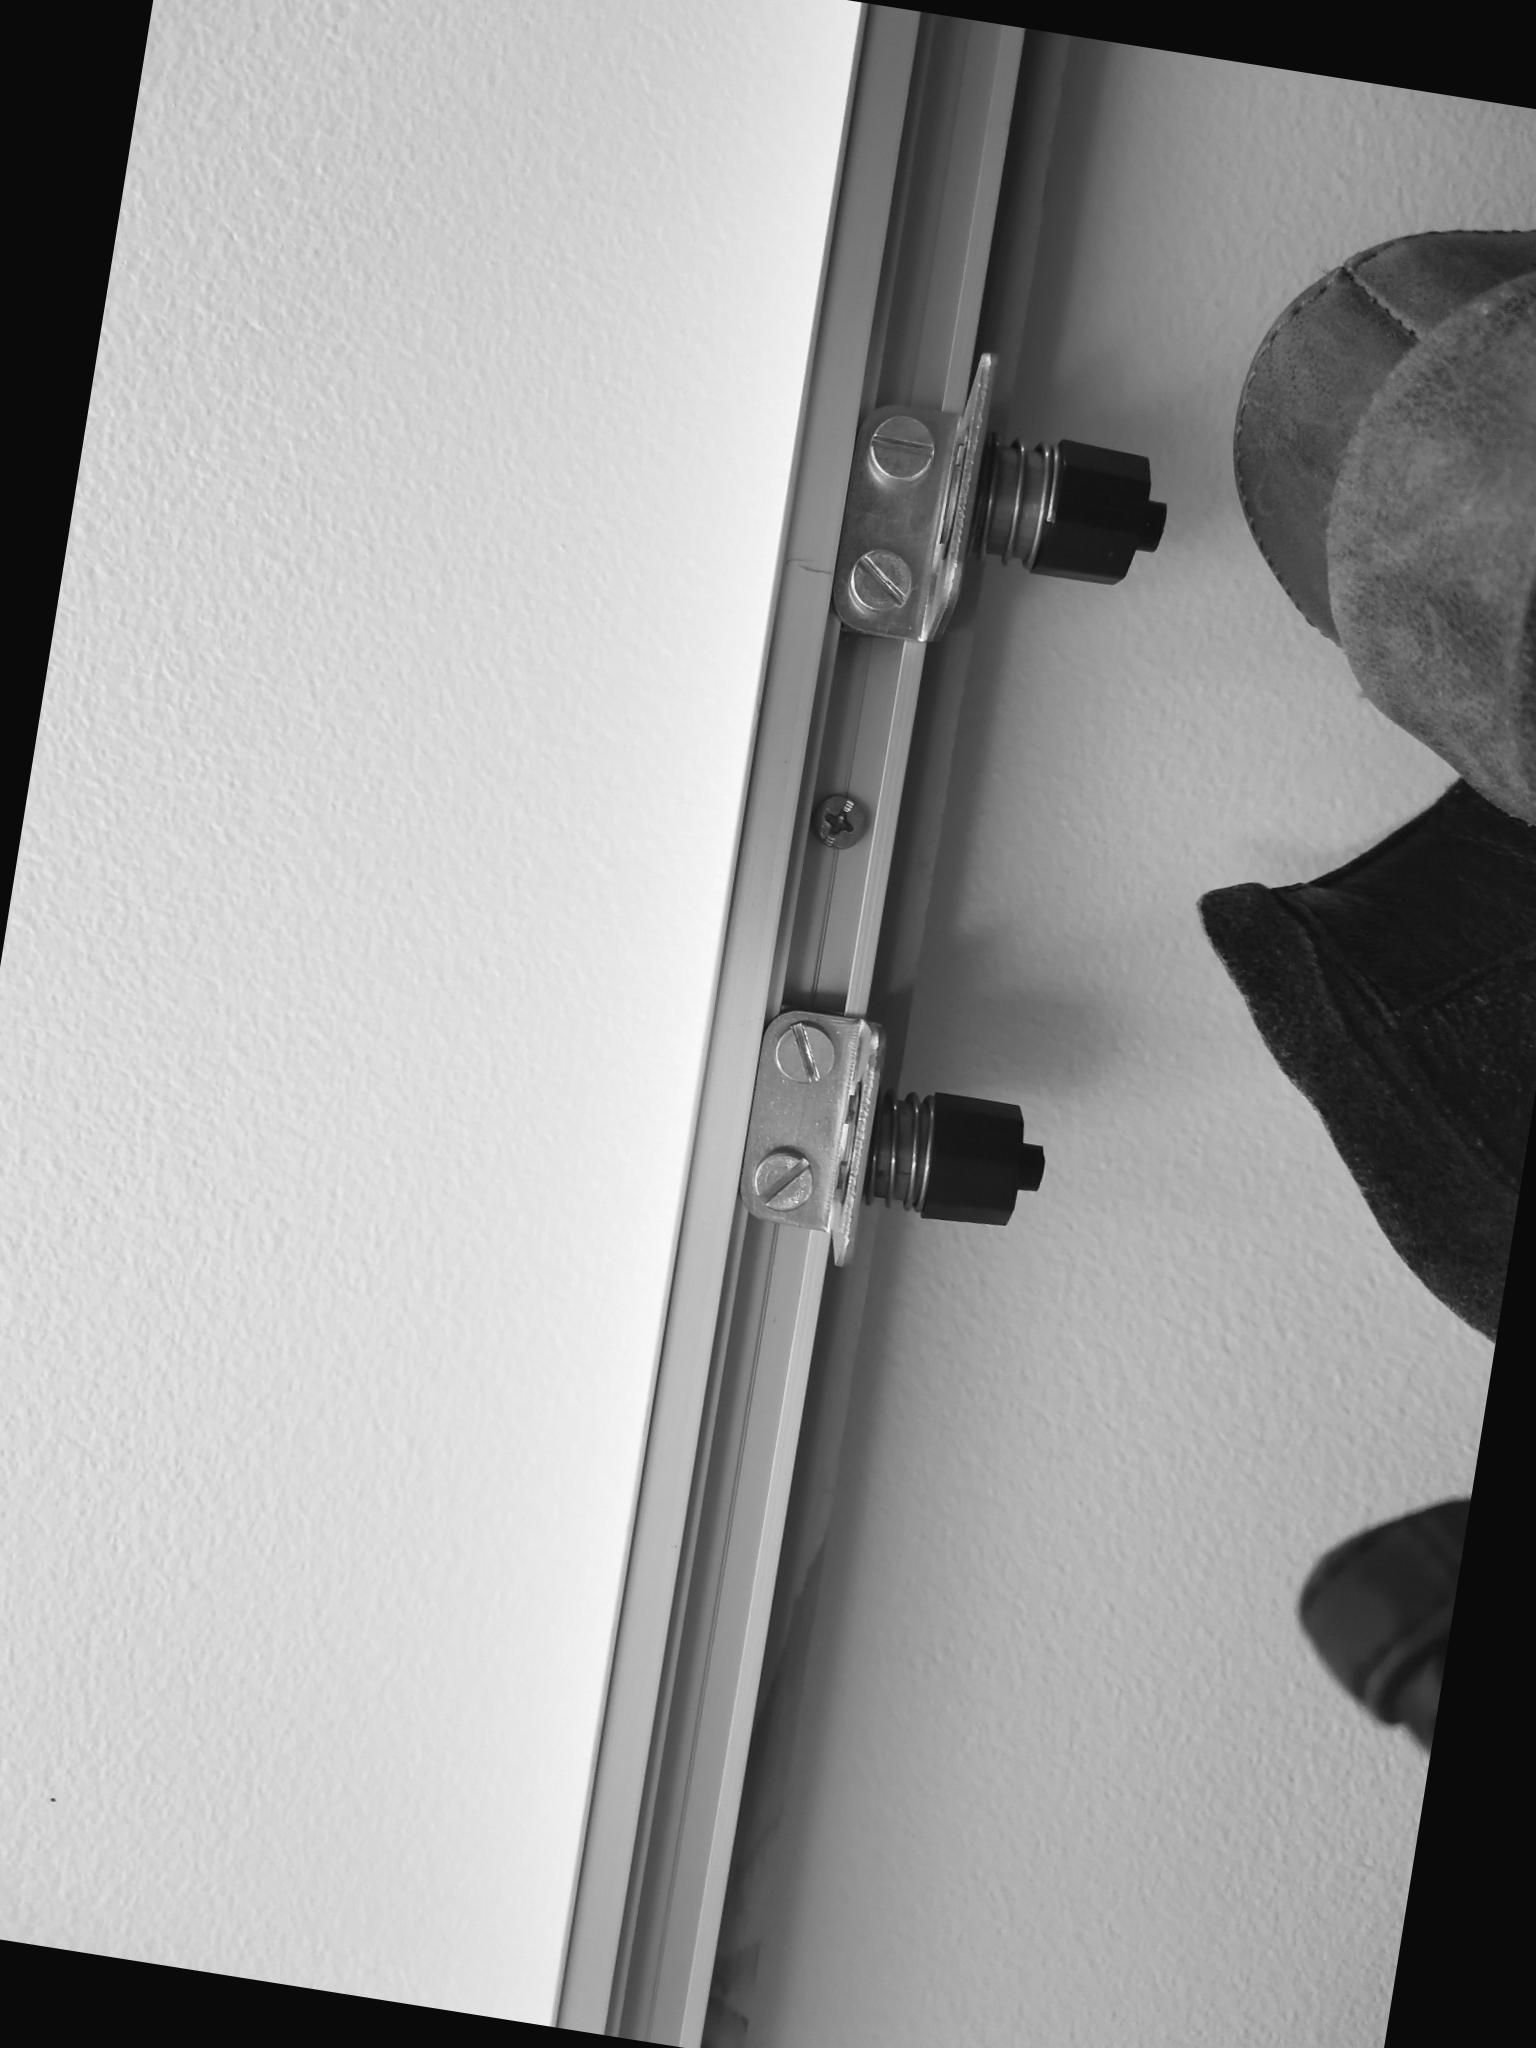philips-PZ: (802, 787, 874, 856)
slotted: (858, 410, 945, 492), (842, 540, 925, 619), (747, 1142, 820, 1216), (768, 1019, 842, 1087)
